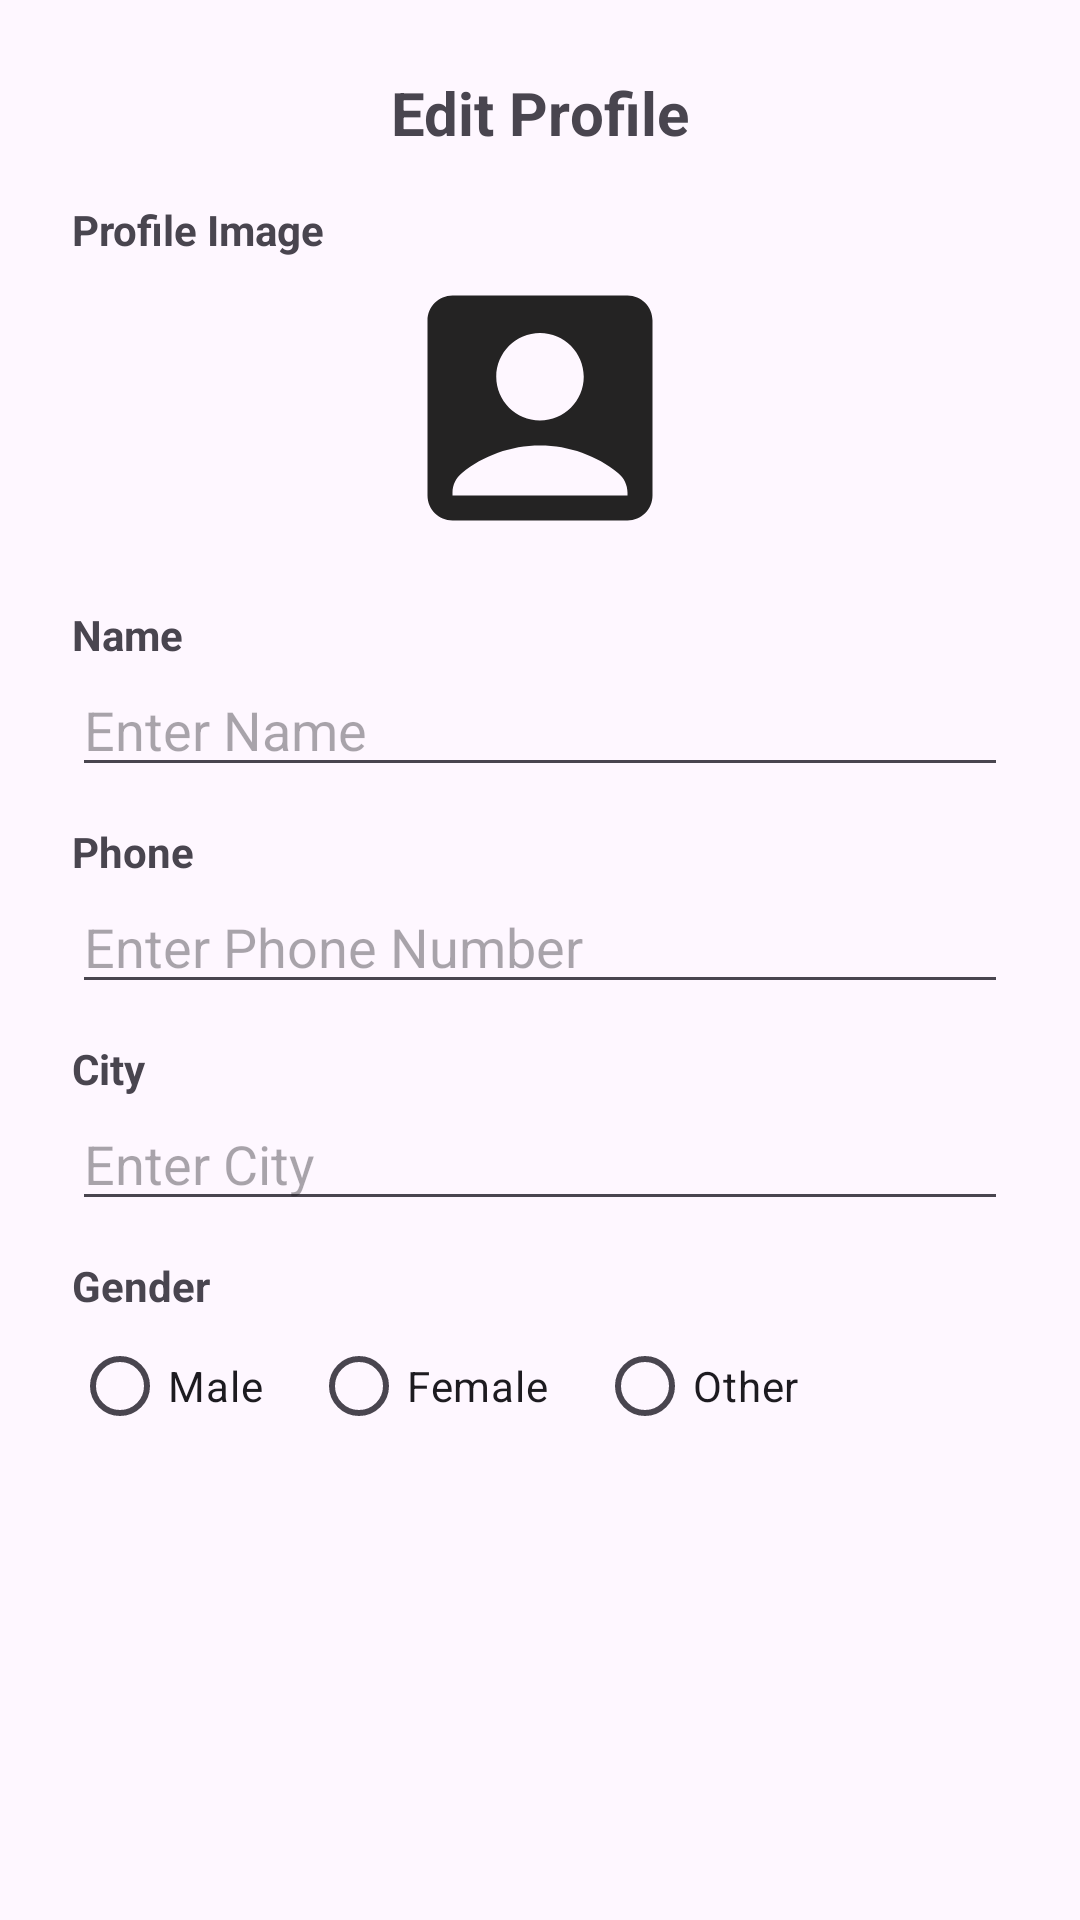

Icon click points for this 1080 × 1920 phone screenshot, format (x=x, y=y):
account box: (x=540, y=408)
